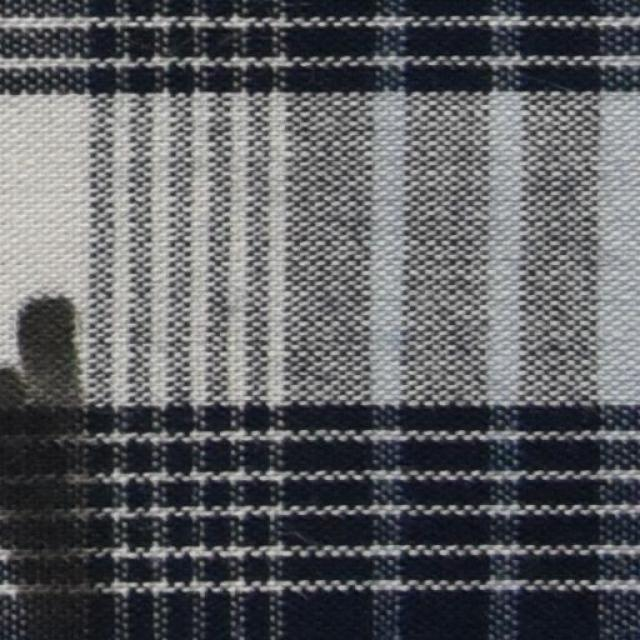Stain: (3, 276, 108, 639)
